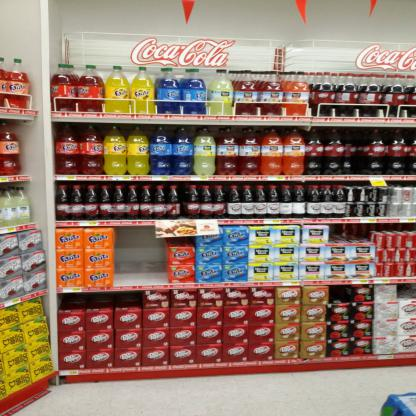Void: (118, 228, 154, 282), (61, 292, 141, 309), (332, 226, 364, 241), (328, 286, 351, 302), (400, 285, 414, 296)
